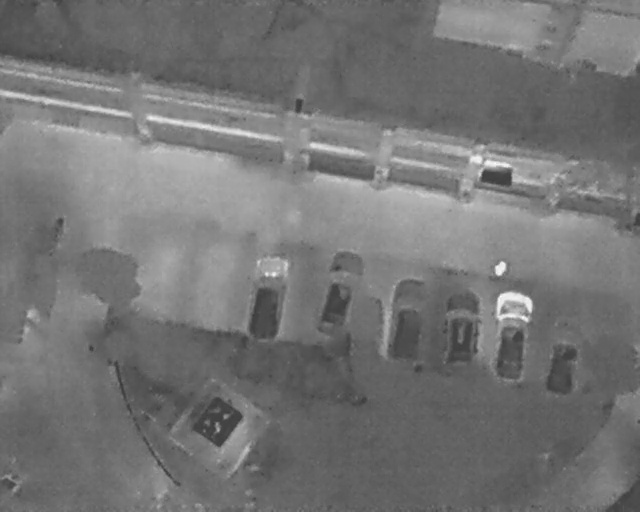Car: (380, 274, 435, 371), (314, 244, 370, 334), (486, 288, 538, 384), (243, 250, 294, 343), (541, 308, 587, 399), (440, 287, 484, 370)
Person: (490, 257, 508, 279)
